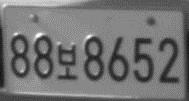2: (157, 37, 181, 83)
5: (131, 37, 154, 83)
6: (107, 36, 129, 82)
8: (84, 34, 105, 81), (32, 34, 54, 78), (9, 33, 30, 78)
보: (54, 42, 79, 82)
